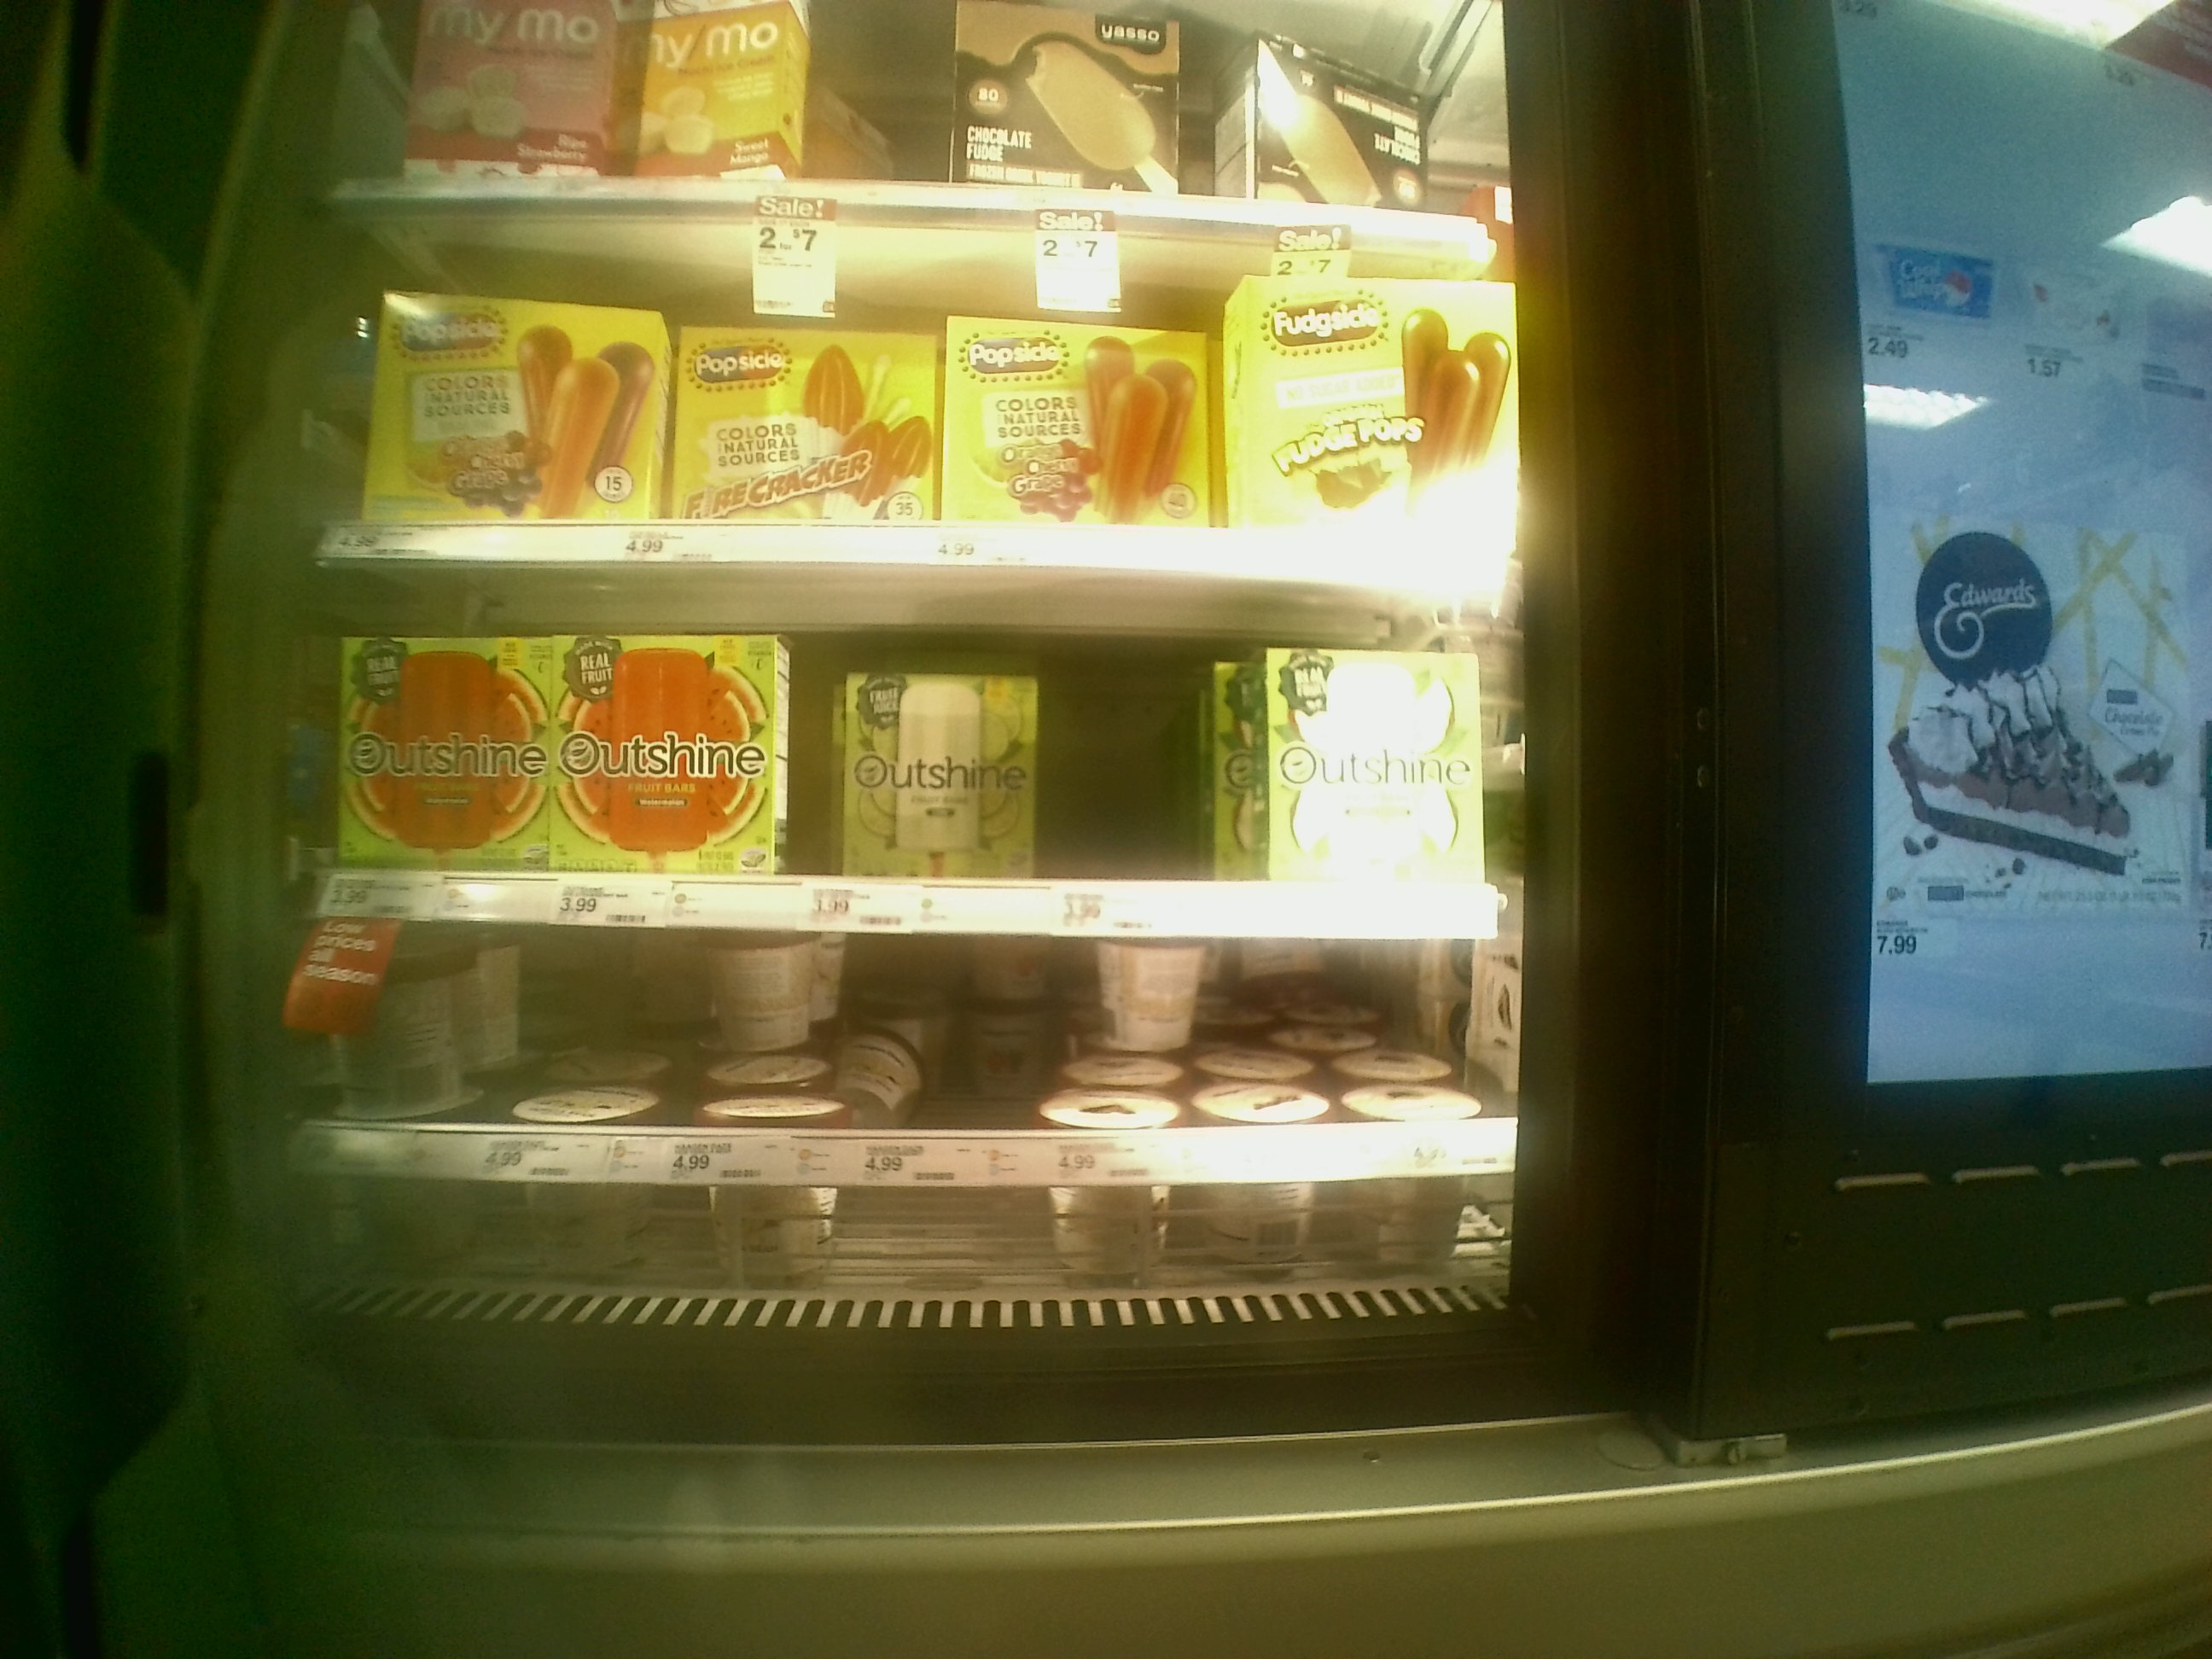ice-cream-shelf: (296, 561, 1529, 938), (298, 216, 1508, 561), (286, 929, 1531, 1246)
